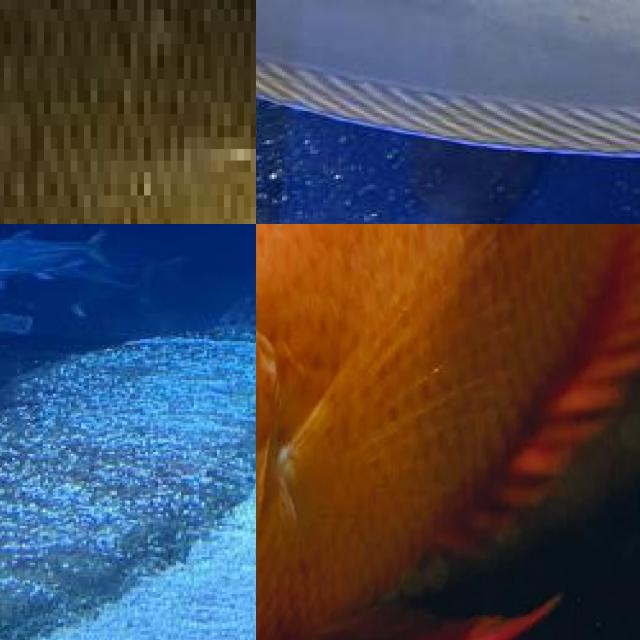fish: (256, 224, 640, 640), (0, 0, 256, 224)
